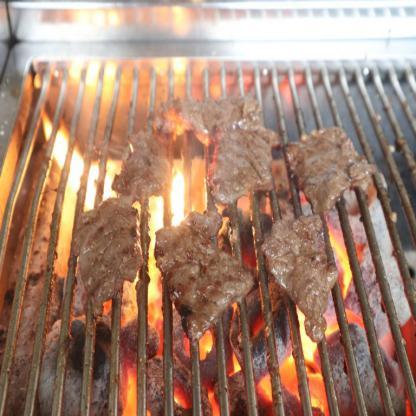Carne: (154, 207, 250, 326), (196, 89, 284, 197), (260, 205, 330, 334), (69, 192, 146, 288), (287, 128, 373, 203)
